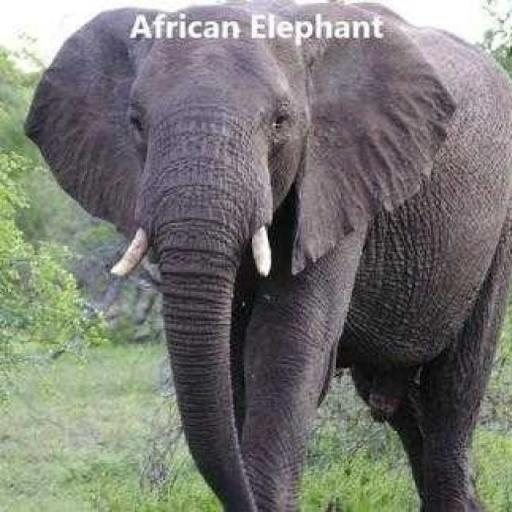Elephant: (22, 0, 511, 510)
